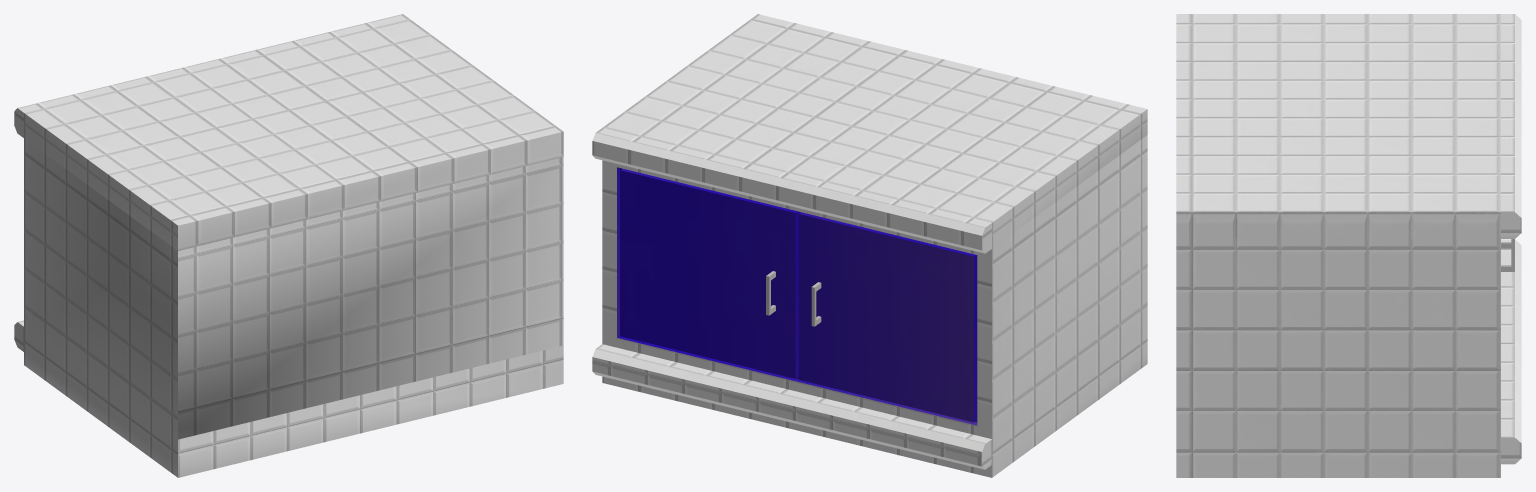
Rendered from bench.fbx.
3 renders of one model, left to right at view 1: azimuth 30°, elevation 25°; view 2: azimuth 150°, elevation 25°; view 3: azimuth 270°, elevation 25°, orthographic. The views are drawn at different scales.
Visible parts, largest first — view 1: bench; view 2: bench; view 3: bench.
Part boxes in pixels (x1=…): bench: x1=14, y1=14, x2=563, y2=477; bench: x1=592, y1=14, x2=1147, y2=477; bench: x1=1176, y1=14, x2=1521, y2=477.
Size of the model in its own units: 162 by 101 by 119.
